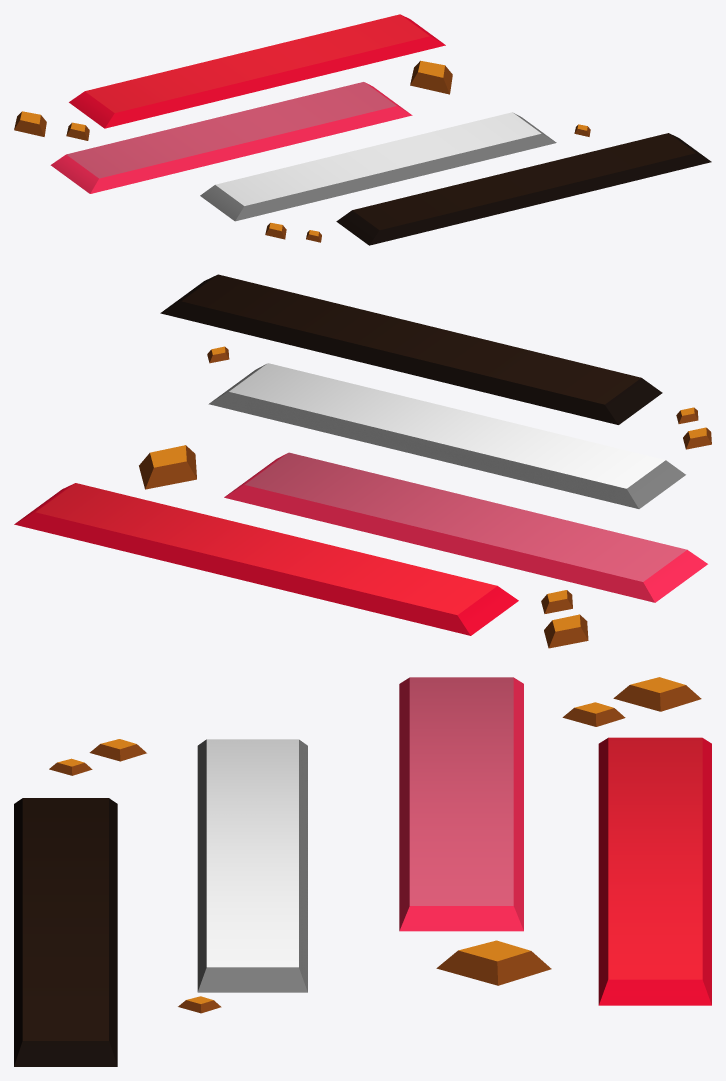
The model's file is Bosukbalpan1-2.fbx.
The picture shows the model from 3 angles, top to bottom: view 1: azimuth 30°, elevation 25°; view 2: azimuth 150°, elevation 25°; view 3: azimuth 270°, elevation 25°; orthographic projection. The views are drawn at different scales.
Parts seen in each view (by area): view 1: Bosukbalpan1-2; view 2: Bosukbalpan1-2; view 3: Bosukbalpan1-2.
Part boxes in pixels (left/top/right/bottom): Bosukbalpan1-2: left=14, top=14, right=711, bottom=245; Bosukbalpan1-2: left=14, top=274, right=711, bottom=648; Bosukbalpan1-2: left=14, top=677, right=711, bottom=1066.
Bounding box in the file's own units: 0.6537 × 0.0149 × 0.5034.
